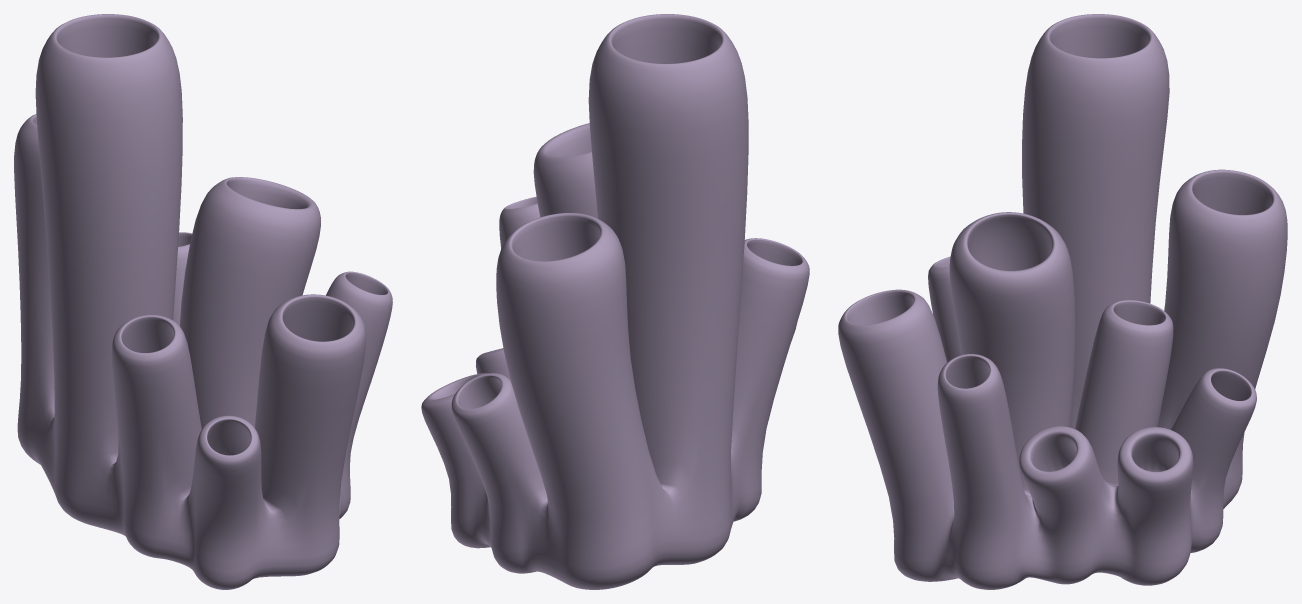
The model's file is coral-3.fbx.
The picture shows the model from 3 angles, left to right: view 1: azimuth 30°, elevation 25°; view 2: azimuth 150°, elevation 25°; view 3: azimuth 270°, elevation 25°; orthographic projection. The views are drawn at different scales.
Parts seen in each view (by area): view 1: pCylinder14; view 2: pCylinder14; view 3: pCylinder14.
Boxes of the visible parts, x1,y1,x2,y2 form: pCylinder14: [14, 14, 392, 589]; pCylinder14: [421, 14, 809, 589]; pCylinder14: [838, 14, 1287, 589].
Size of the model in its own units: 11.82 by 20.08 by 16.71.
